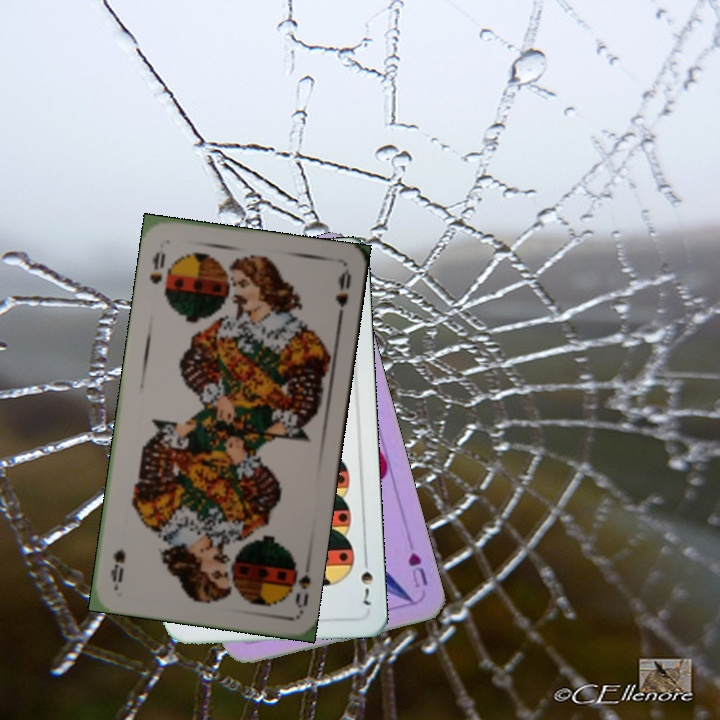HU: (404, 549, 430, 591)
S7: (357, 552, 376, 608)
SO: (285, 553, 314, 614), (145, 248, 168, 287)
